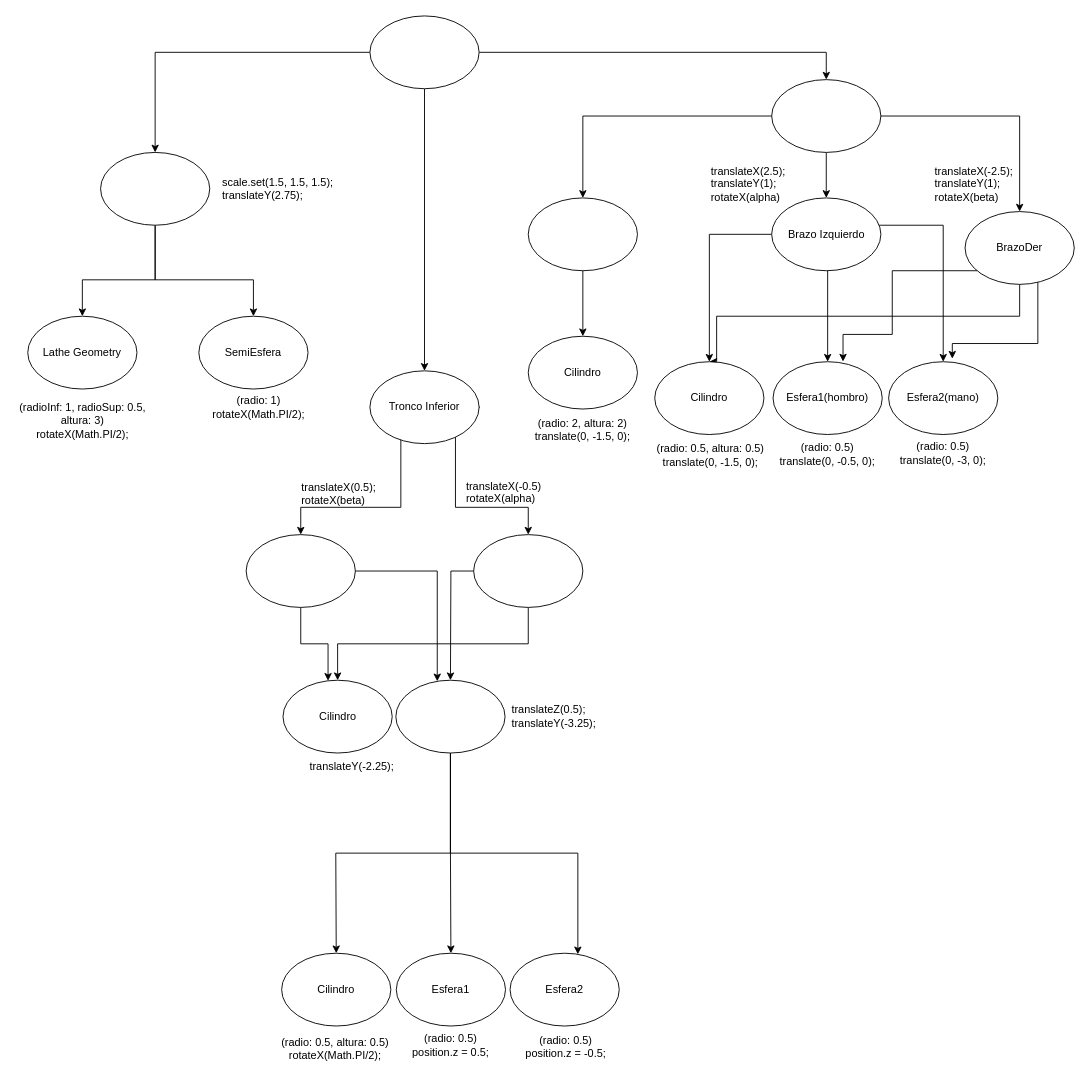
Image size: 1090x1078. Some labels were removed from this diagram. Each missing label, with the centre of its shape:
"Cabeza" goes at (x=155, y=188).
"Personaje" goes at (x=424, y=52).
"Pie" goes at (x=450, y=716).
"Pierna Derecha" goes at (x=528, y=570).
"Pierna Izquierda" goes at (x=300, y=570).
"Torso" goes at (x=582, y=234).
"Tronco Superior" goes at (x=826, y=115).
